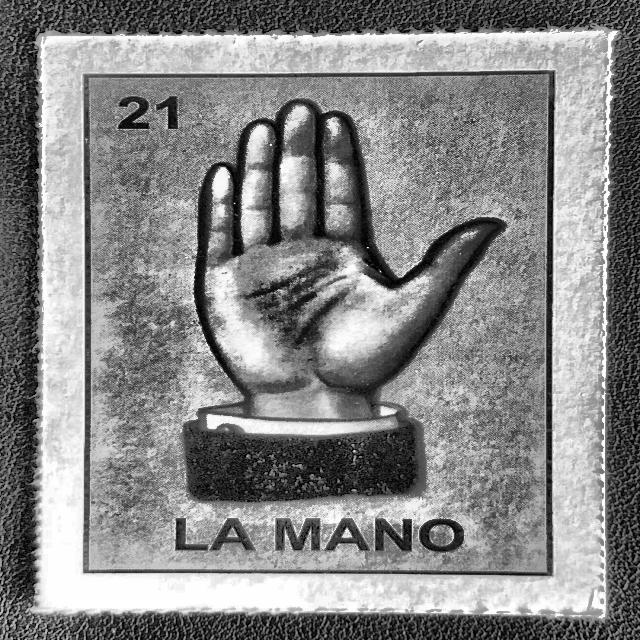La Mano: (57, 44, 595, 602)
